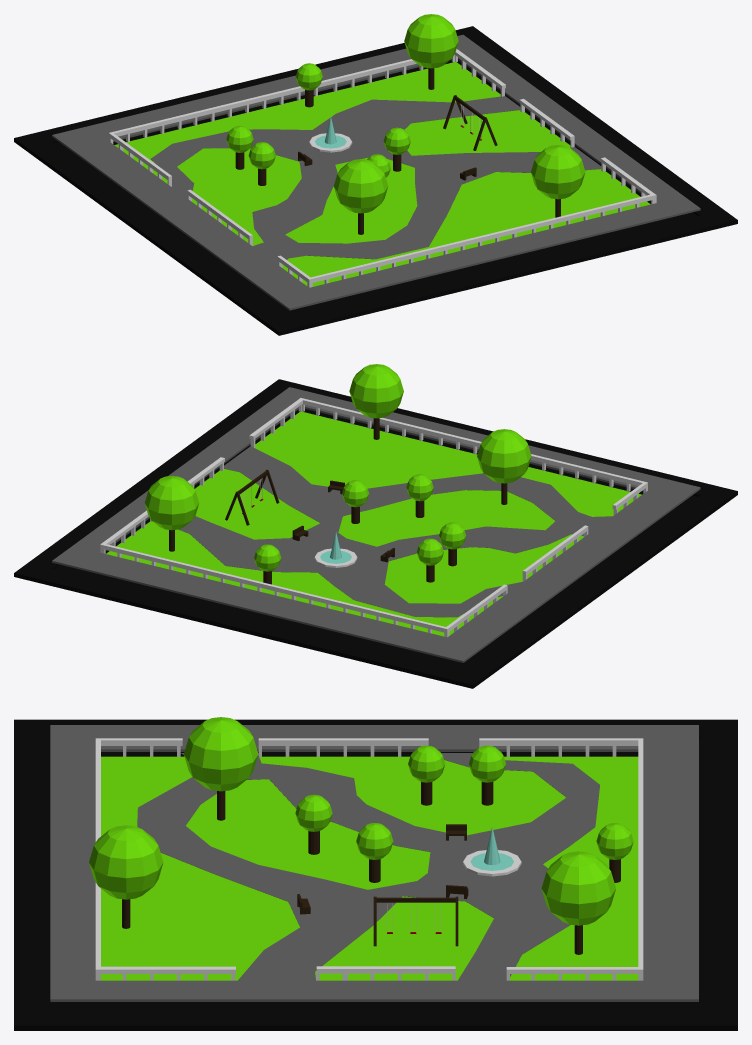
Rendered from park_c.FBX.
The picture shows the model from 3 angles, top to bottom: view 1: azimuth 30°, elevation 25°; view 2: azimuth 150°, elevation 25°; view 3: azimuth 270°, elevation 25°; orthographic projection. The views are drawn at different scales.
Parts seen in each view (by area): view 1: Layer:bldgconcrete, Layer:greenery, Layer:street, Layer:0, Layer:wood; view 2: Layer:greenery, Layer:bldgconcrete, Layer:street, Layer:0, Layer:wood; view 3: Layer:bldgconcrete, Layer:greenery, Layer:street, Layer:0, Layer:wood, Layer:water, Layer:windows.
Boxes of the visible parts, x1,y1,x2,y2 form: Layer:bldgconcrete: (52, 34, 700, 310); Layer:greenery: (114, 14, 650, 286); Layer:street: (14, 26, 737, 335); Layer:0: (108, 49, 656, 287); Layer:wood: (235, 68, 560, 234); Layer:greenery: (106, 364, 641, 636); Layer:bldgconcrete: (52, 387, 700, 662); Layer:street: (14, 379, 737, 688); Layer:0: (100, 398, 647, 637); Layer:wood: (169, 418, 507, 584); Layer:bldgconcrete: (50, 725, 698, 1001); Layer:greenery: (89, 717, 638, 980); Layer:street: (14, 719, 737, 1030); Layer:0: (95, 738, 643, 980); Layer:wood: (122, 782, 620, 954); Layer:water: (470, 827, 513, 870); Layer:windows: (463, 850, 521, 876).
Size of the model in its own units: 4000 by 669 by 4000.
